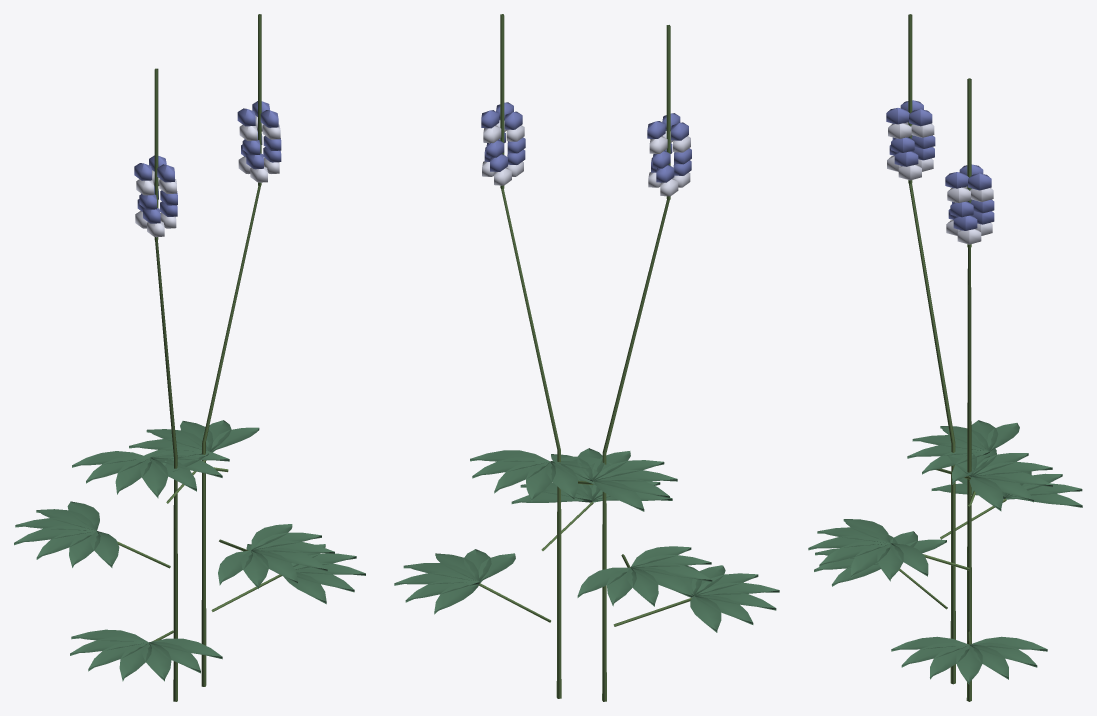
Rendered from chocho.glb.
3 views of the same model, side by side, from view 1: azimuth 30°, elevation 25°; view 2: azimuth 150°, elevation 25°; view 3: azimuth 270°, elevation 25° (orthographic). The views are drawn at different scales.
Visible parts, largest first — view 1: chocho; view 2: chocho; view 3: chocho.
Boxes of the visible parts, x1,y1,x2,y2 form: chocho: [14, 14, 365, 701]; chocho: [394, 14, 779, 701]; chocho: [808, 14, 1082, 701].
Size of the model in its own units: 0.6813 by 1.35 by 0.518.
